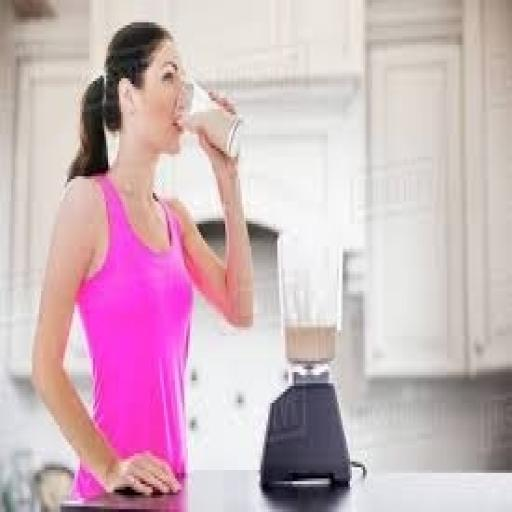drinking: (94, 1, 242, 159)
